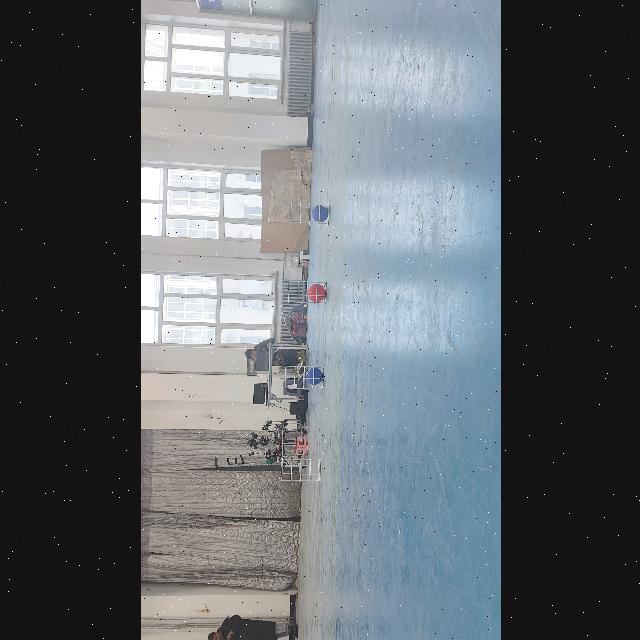B: (304, 367, 322, 385), (310, 205, 326, 222)
R: (307, 284, 325, 302)
S: (280, 363, 326, 392), (278, 456, 322, 486), (287, 201, 331, 229), (284, 278, 328, 306)
